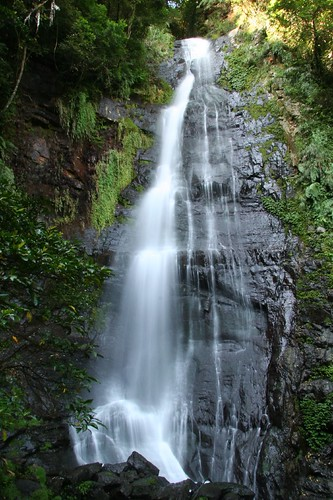wufengciWaterfall: (35, 28, 295, 470)
